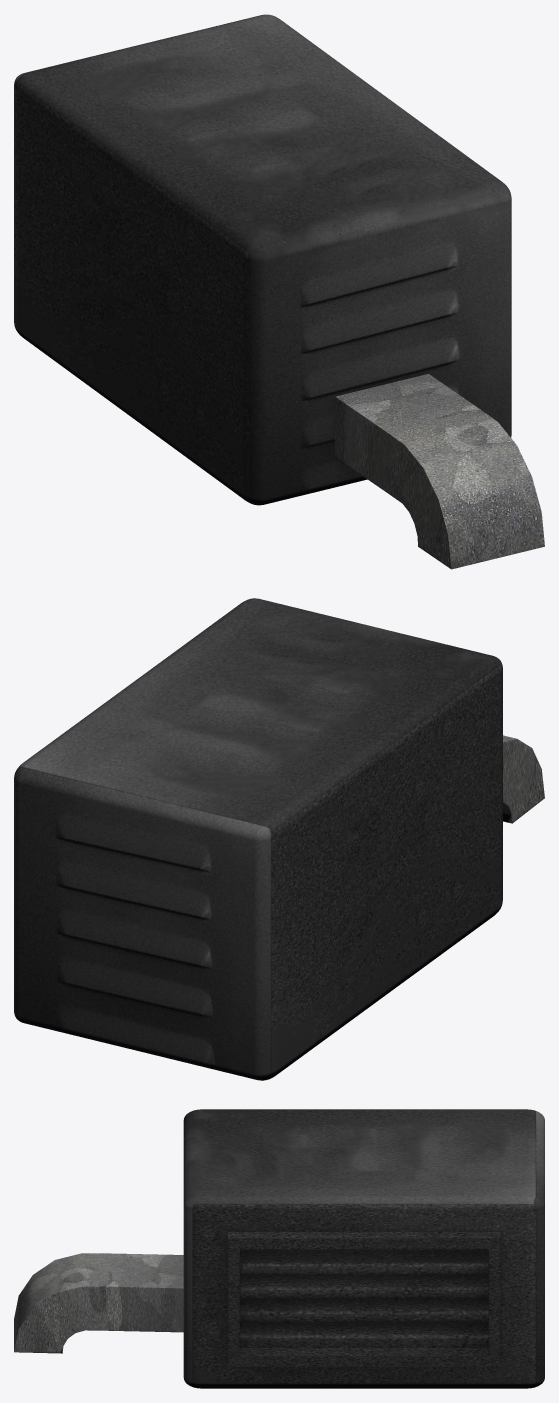
Rendered from D_Ventelation.fbx.
3 views of the same model, one above another, from view 1: azimuth 30°, elevation 25°; view 2: azimuth 150°, elevation 25°; view 3: azimuth 270°, elevation 25° (orthographic). The views are drawn at different scales.
Visible parts, largest first — view 1: pCube75; view 2: pCube75; view 3: pCube75.
Part boxes in pixels (left/top/right/bottom): pCube75: left=14, top=14, right=544, bottom=569; pCube75: left=14, top=598, right=544, bottom=1080; pCube75: left=14, top=1109, right=544, bottom=1388.
Bounding box in the file's own units: 3.9 × 3.46 × 8.65.
Materials: 2 (2 with a texture image).
